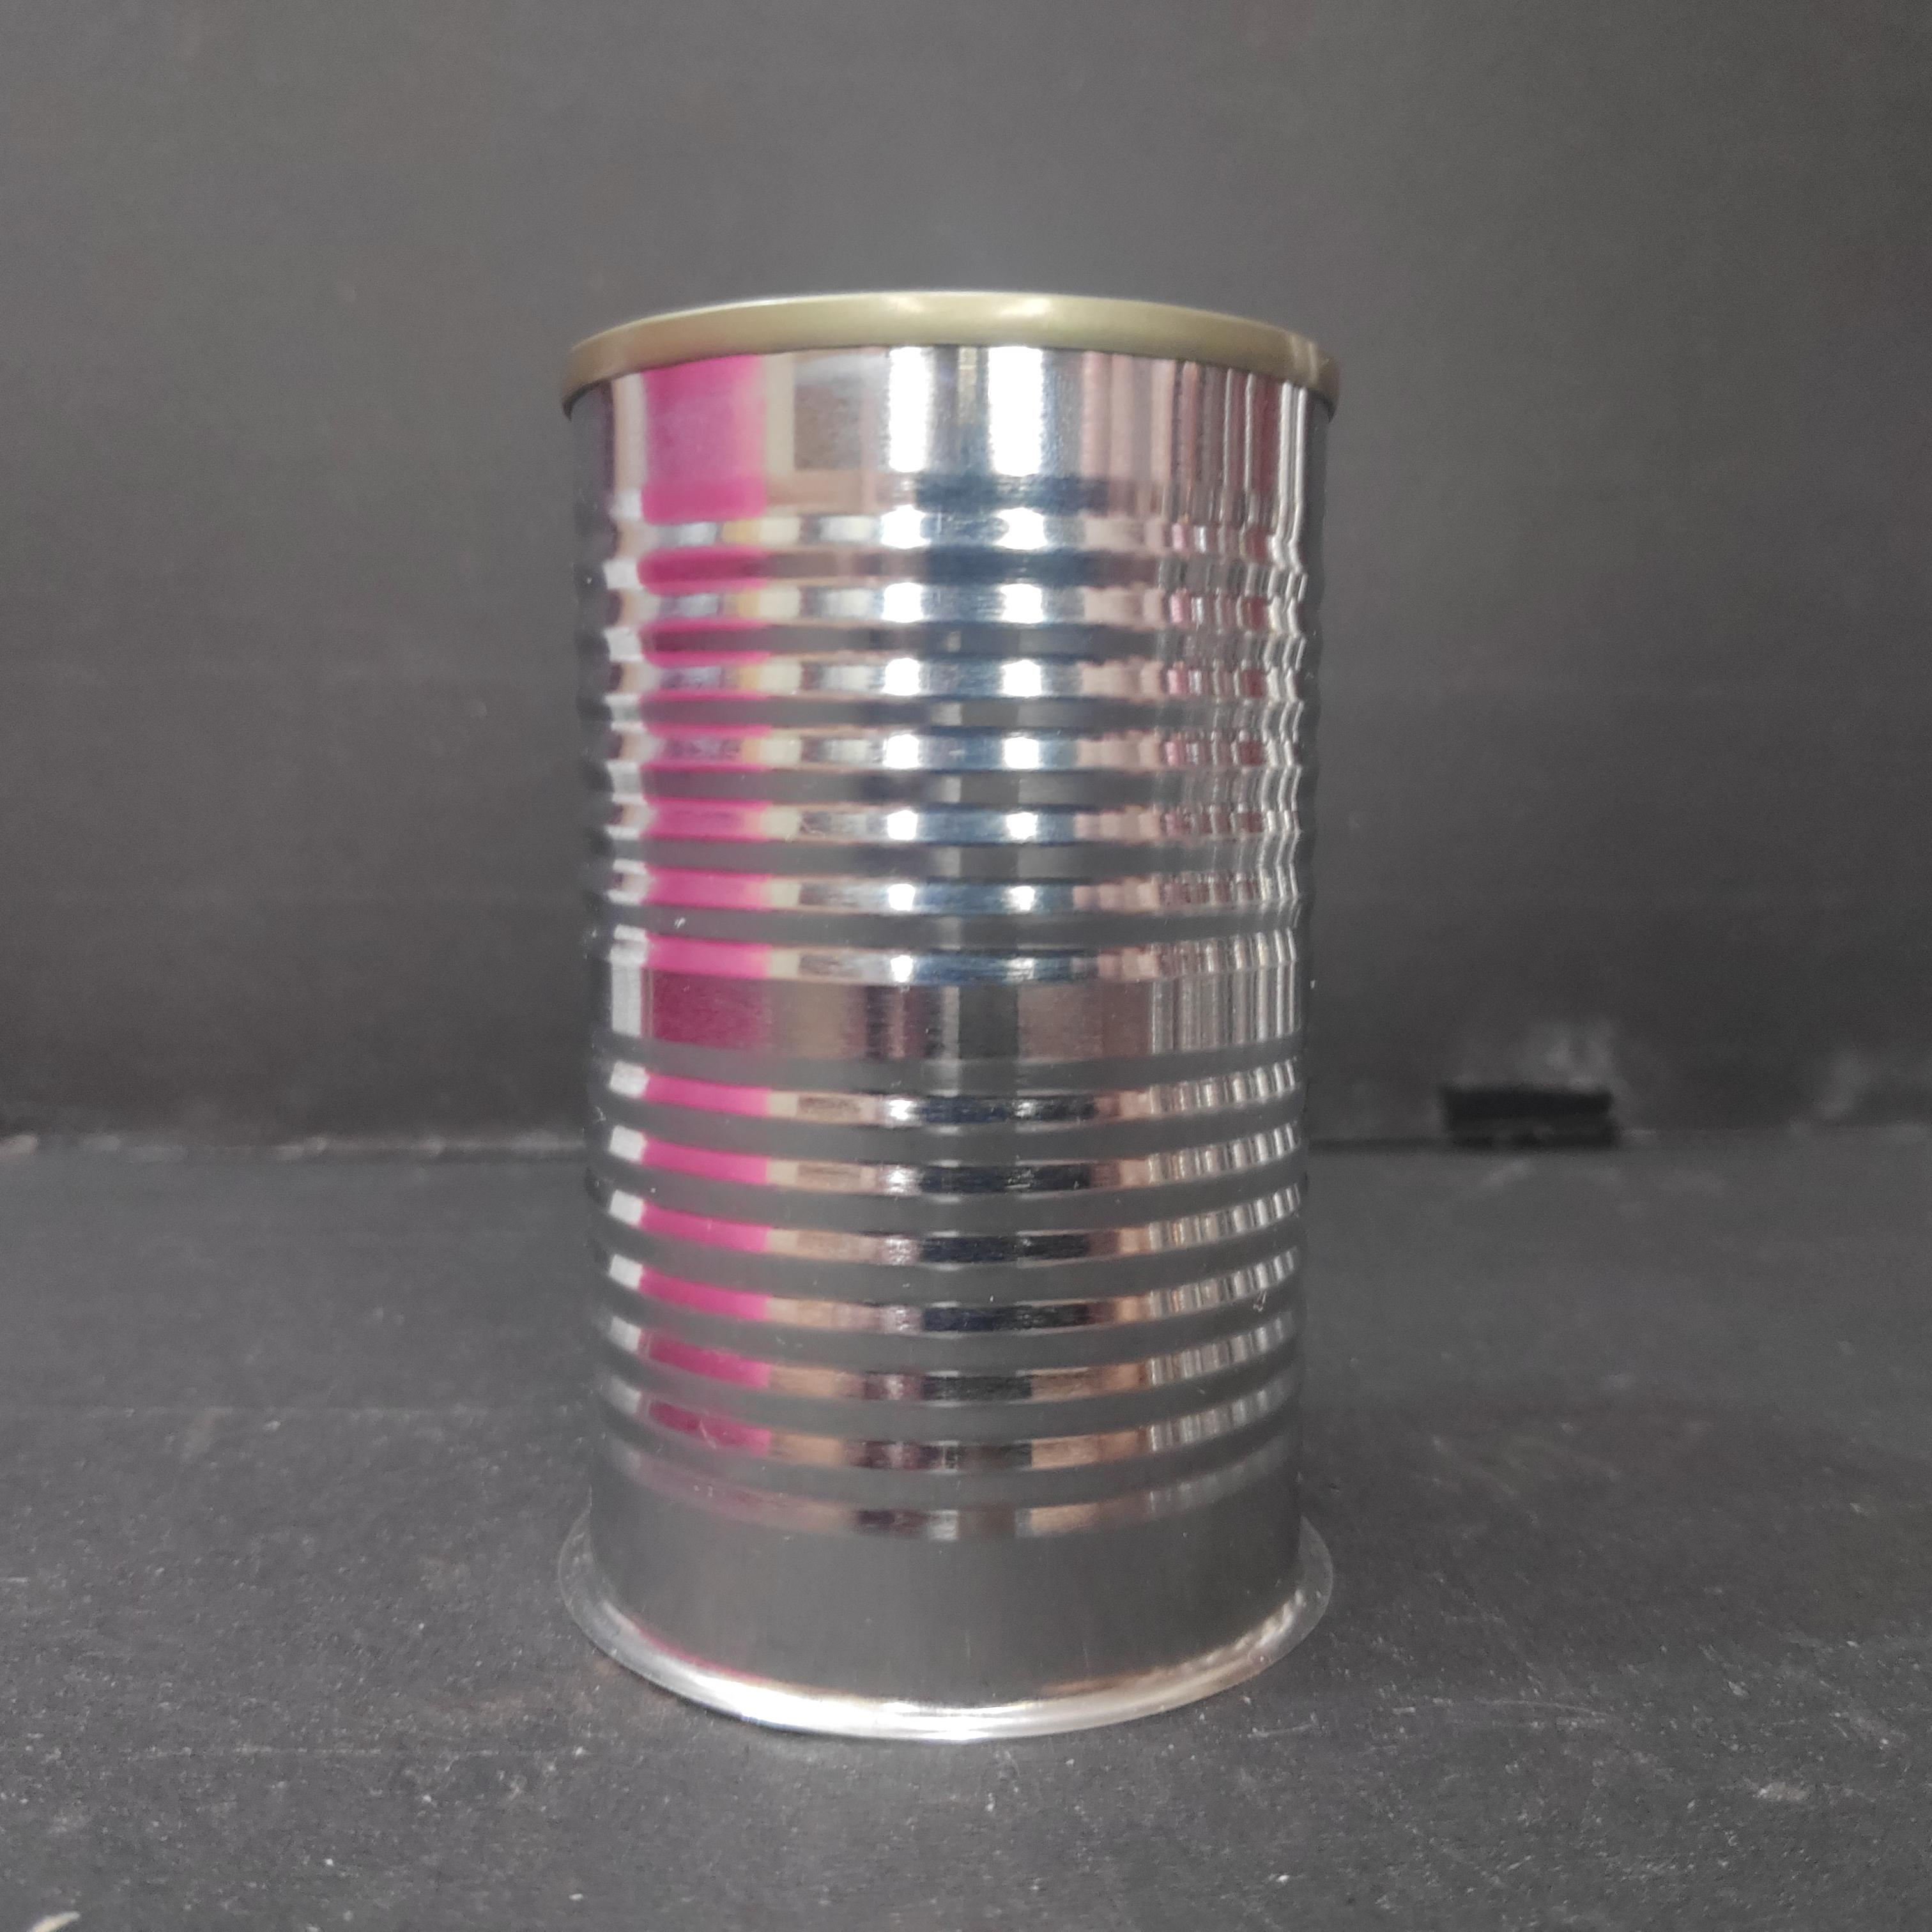No defect: (545, 276, 1355, 1755)
